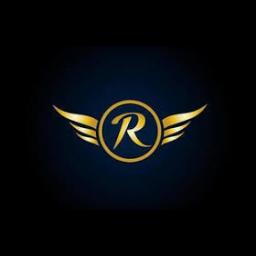r: (112, 110, 154, 152)
